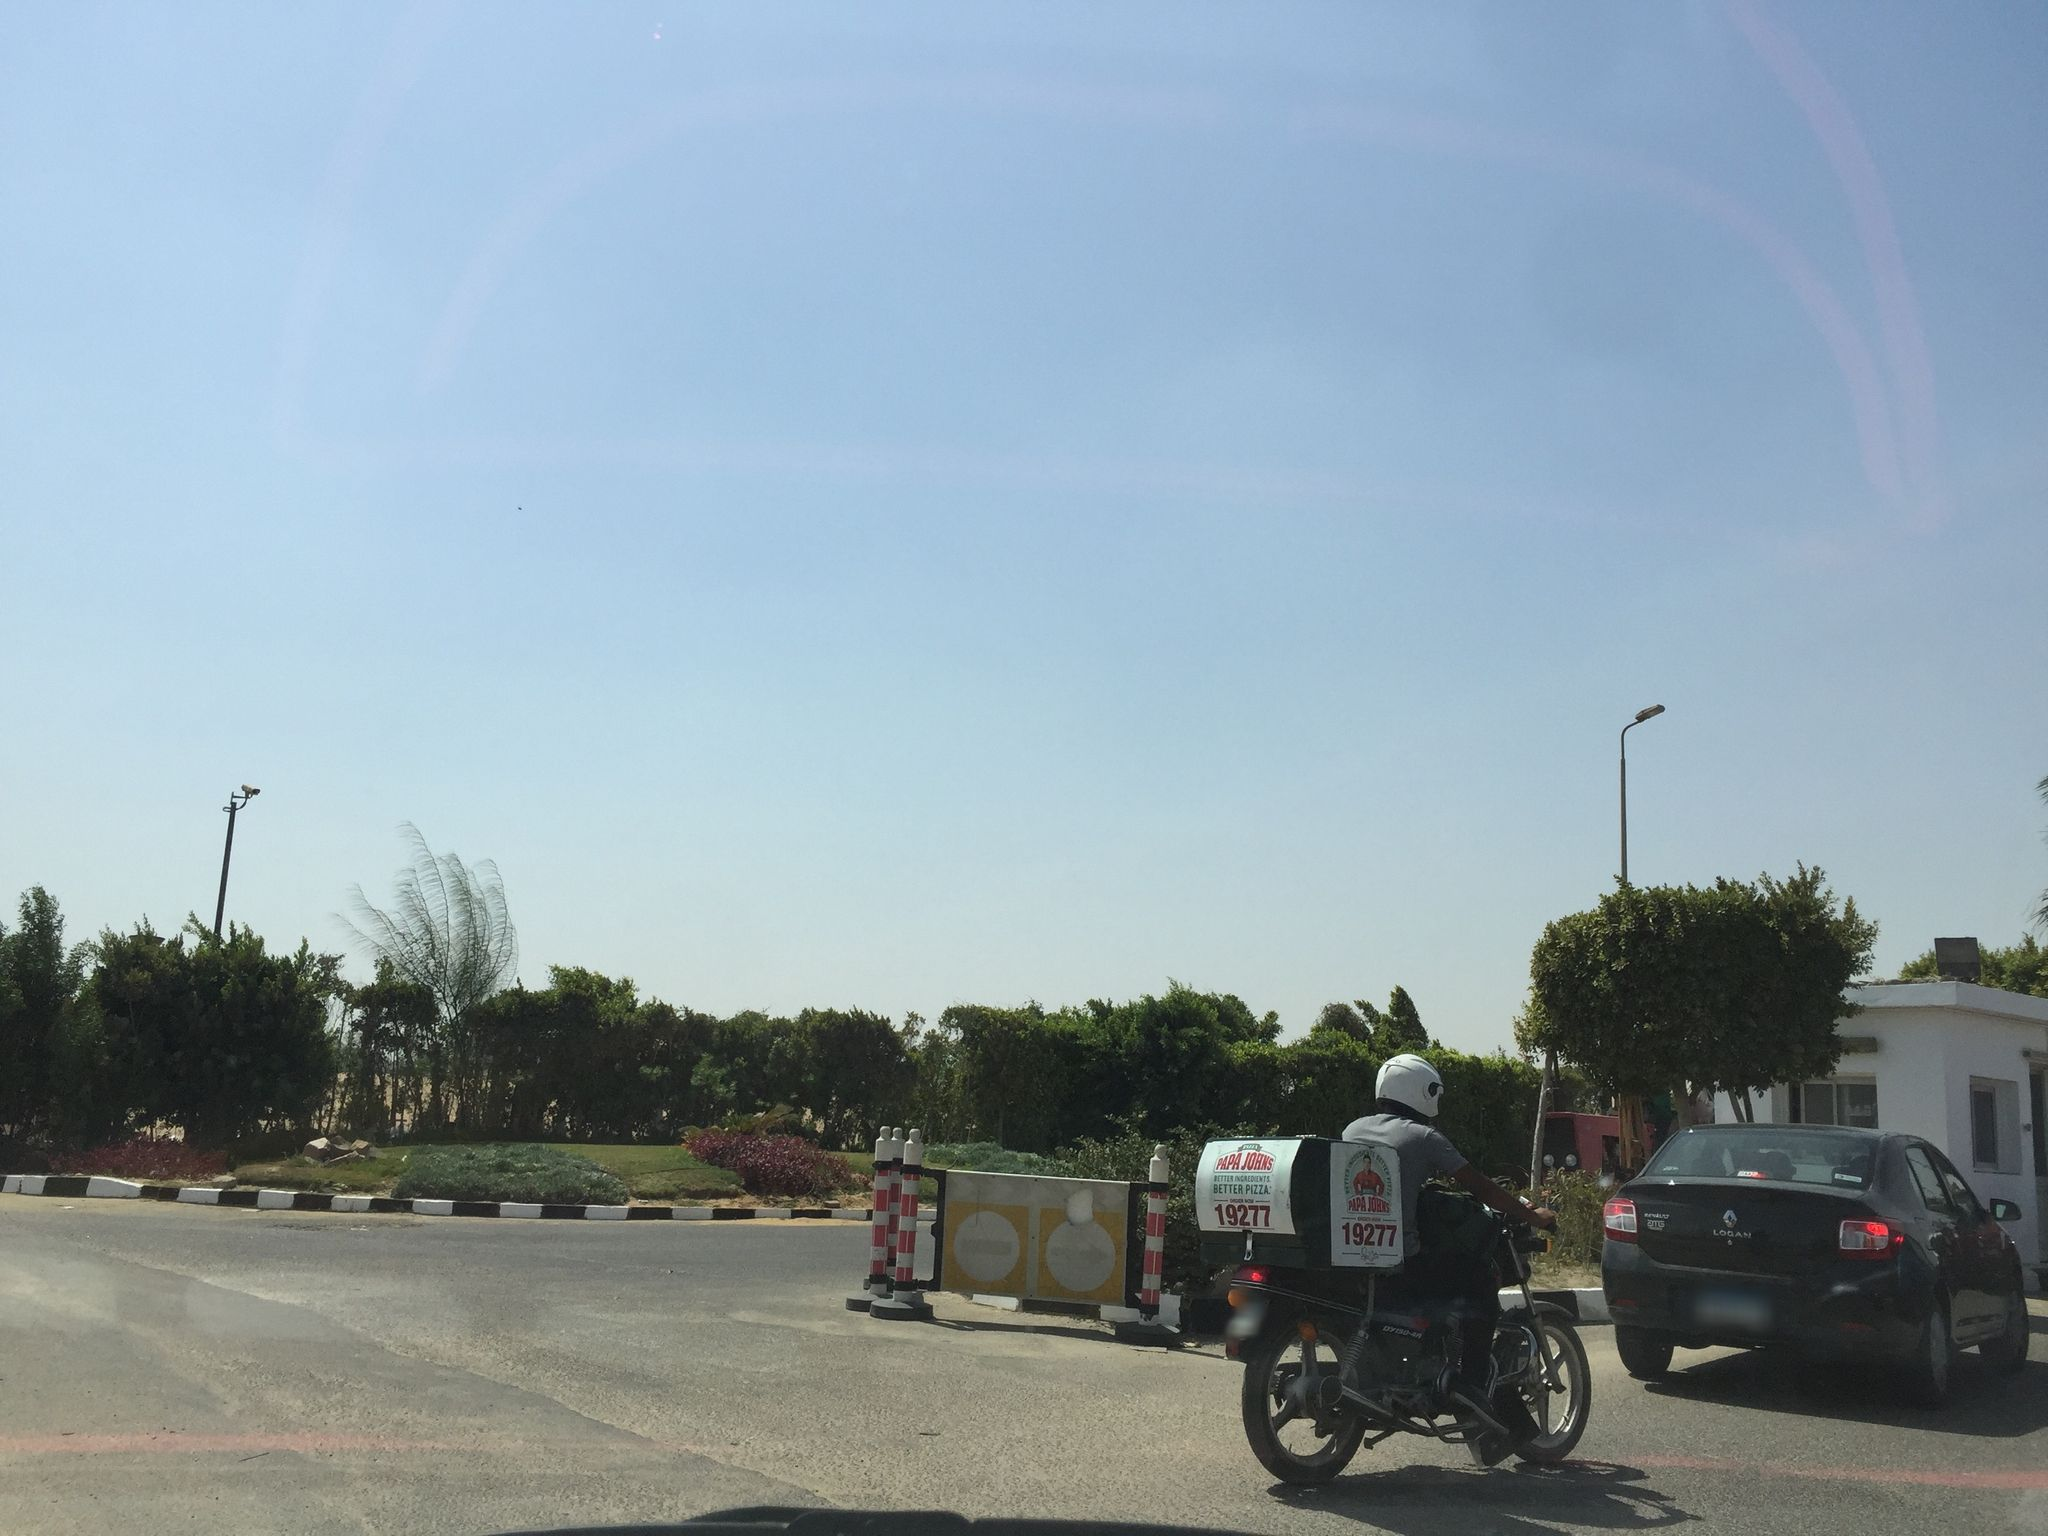car: (1598, 1118, 2030, 1402)
motorcycle: (1192, 1129, 1593, 1489)
